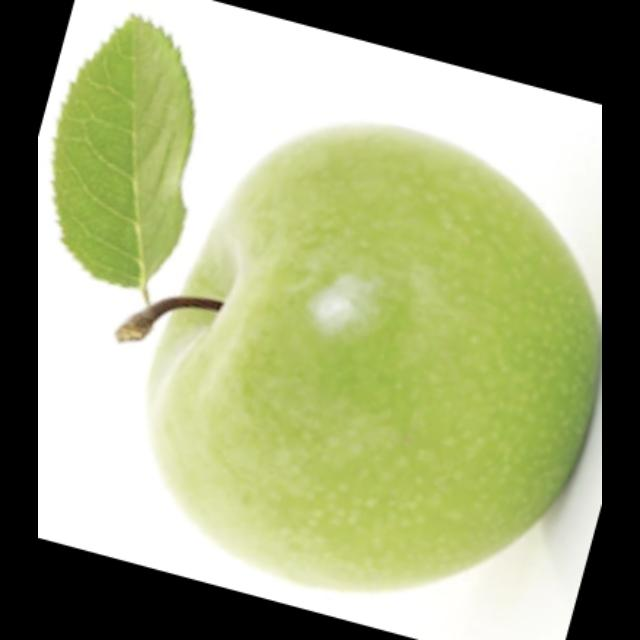Apel Segar: (140, 115, 602, 600)
